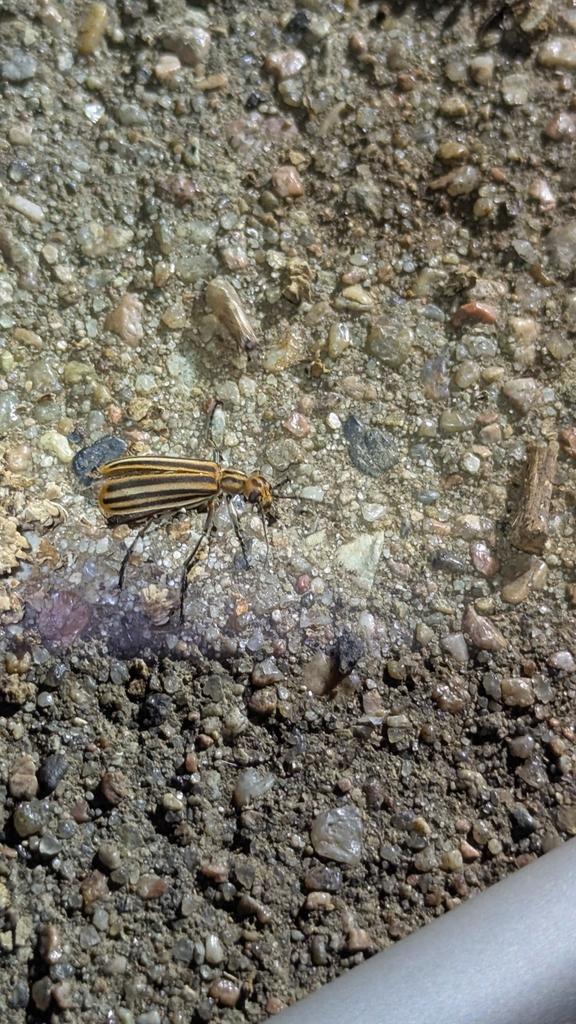blister_beetle: (66, 385, 337, 663)
